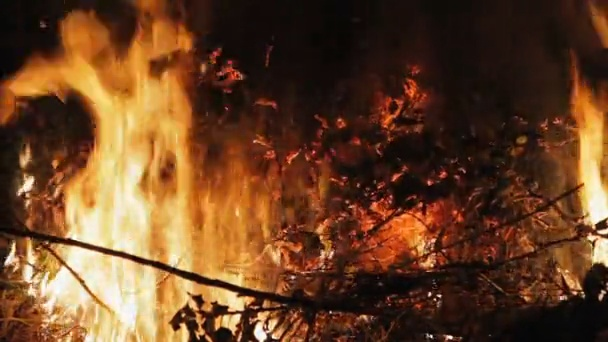fire: (4, 1, 265, 342), (573, 87, 608, 266), (412, 238, 436, 268)
